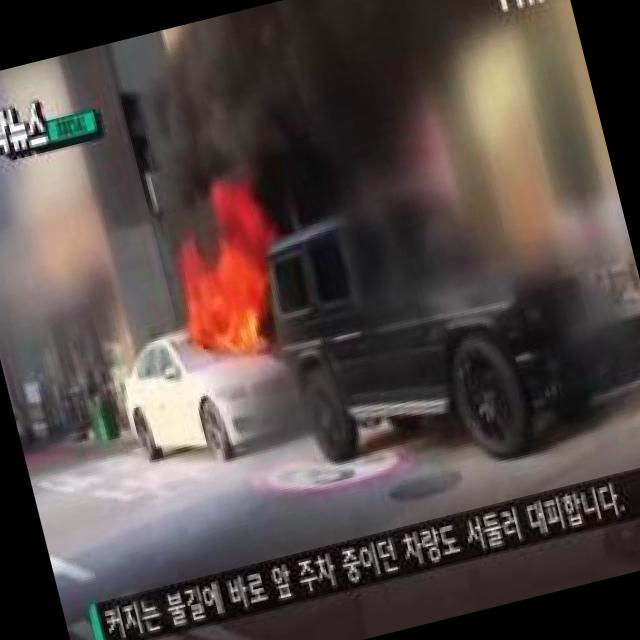Fire: (153, 167, 311, 366)
Smoke: (97, 0, 513, 182)
